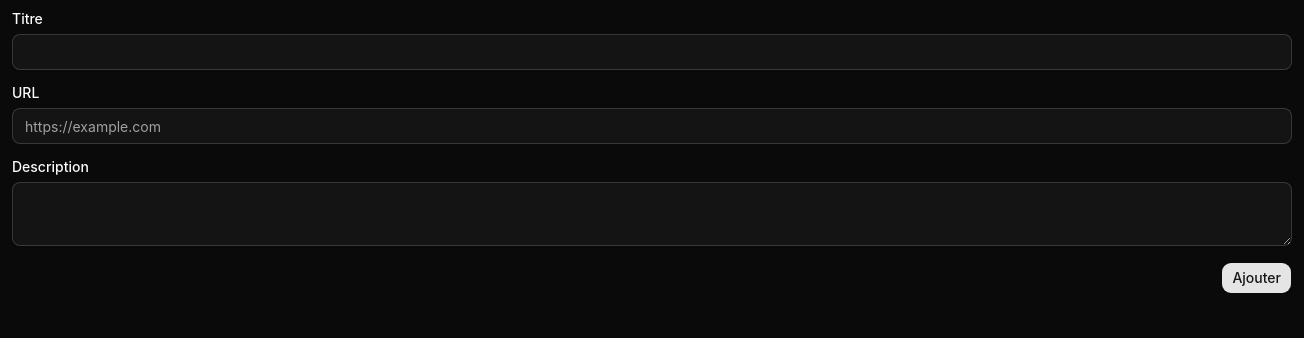
Test: LinkForm › Form Validation › shows error when URL format is invalid
In the field labelled "Titre": (652, 52) [12,34,1292,70], type "Test Link"
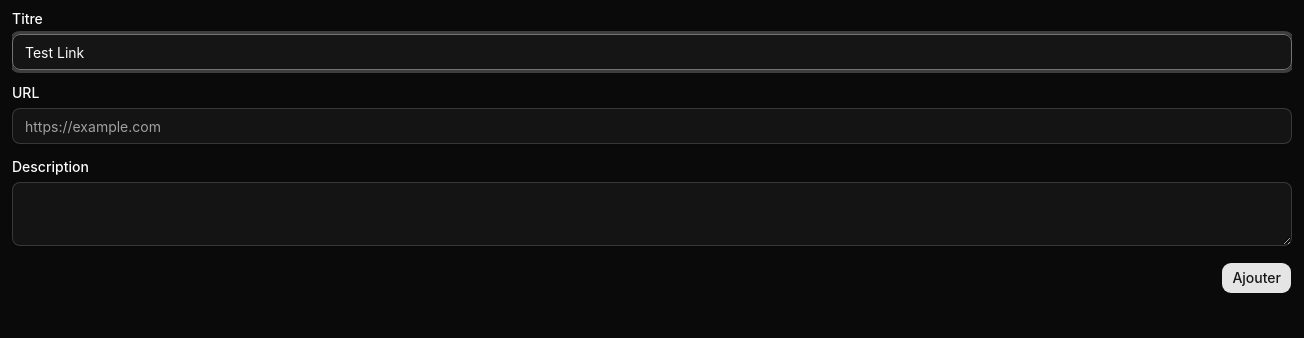
In the field labelled "URL": (652, 126) [12,108,1292,144], type "not-a-valid-url"
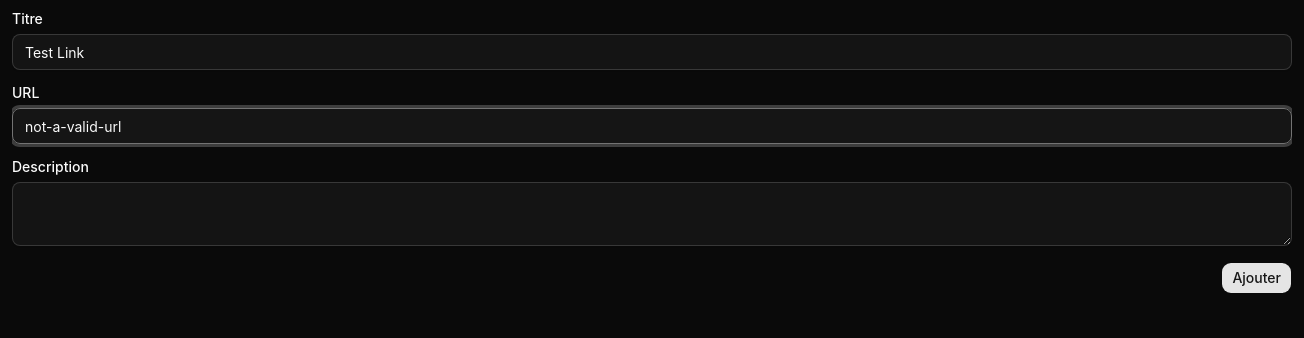
Click the button "Ajouter": (1257, 278) [1221,262,1292,294]
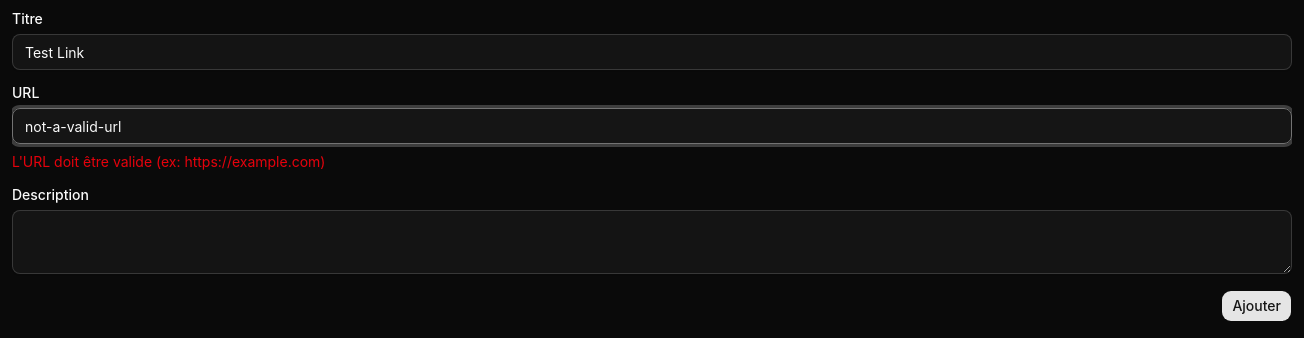
Now the text "L'URL doit être valide (ex: https://example.com)" is shown, box [12,153,326,170]
